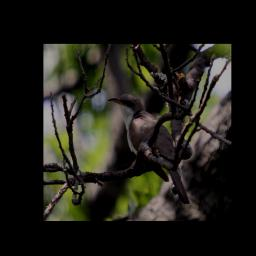Cuckoo: (107, 91, 190, 208)
